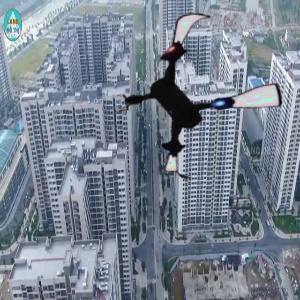drone: (115, 10, 287, 182)
